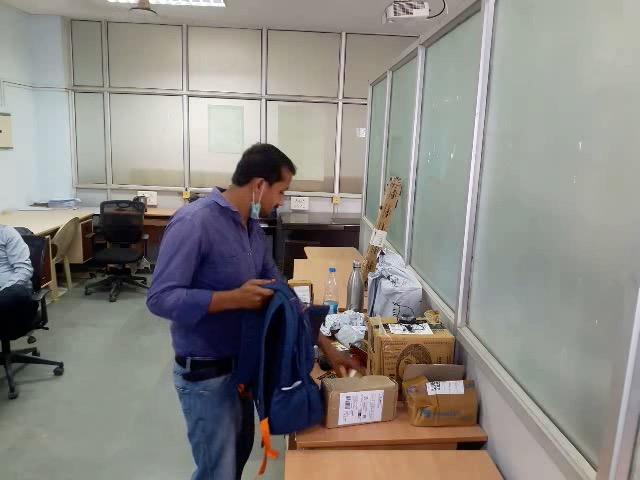shoplifting: (148, 249, 422, 429)
